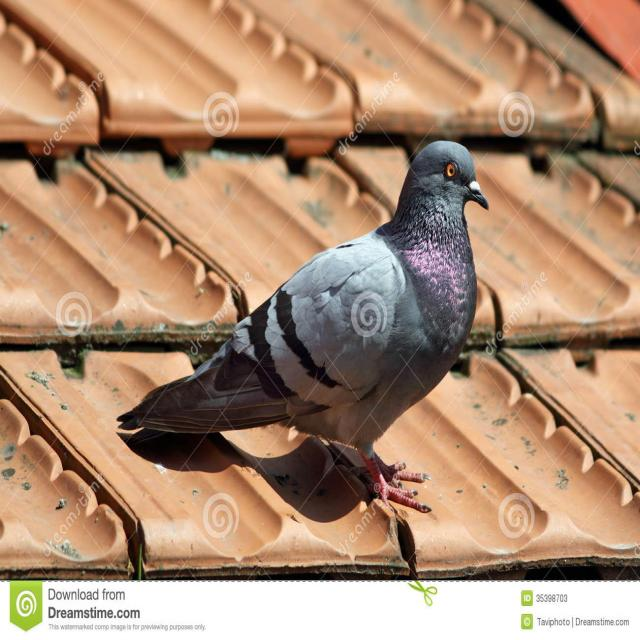bird: (111, 137, 490, 517)
